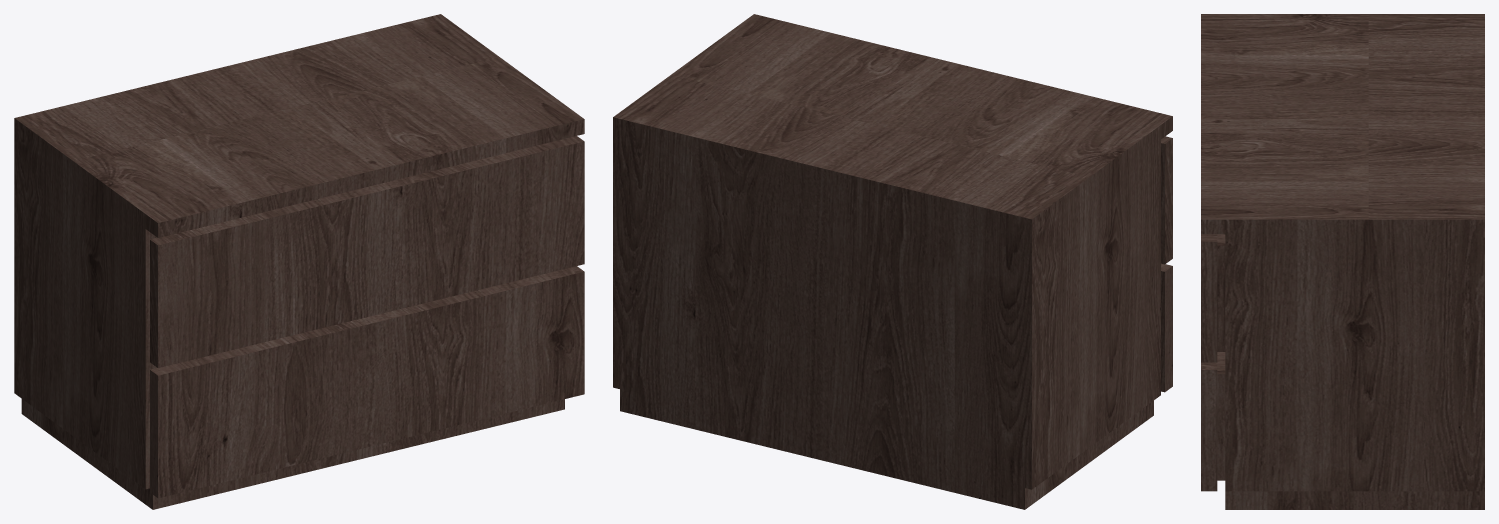
3 renders of one model, left to right at view 1: azimuth 30°, elevation 25°; view 2: azimuth 150°, elevation 25°; view 3: azimuth 270°, elevation 25°, orthographic.
Parts seen in each view (by area): view 1: SM_R2_SideTable; view 2: SM_R2_SideTable; view 3: SM_R2_SideTable.
Part boxes in pixels (x1,y1,x2,y2): SM_R2_SideTable: [14, 14, 584, 509]; SM_R2_SideTable: [613, 14, 1172, 509]; SM_R2_SideTable: [1201, 14, 1484, 509].
Size of the model in its own units: 0.6 by 0.4 by 0.35.
1 material, 1 textured.
